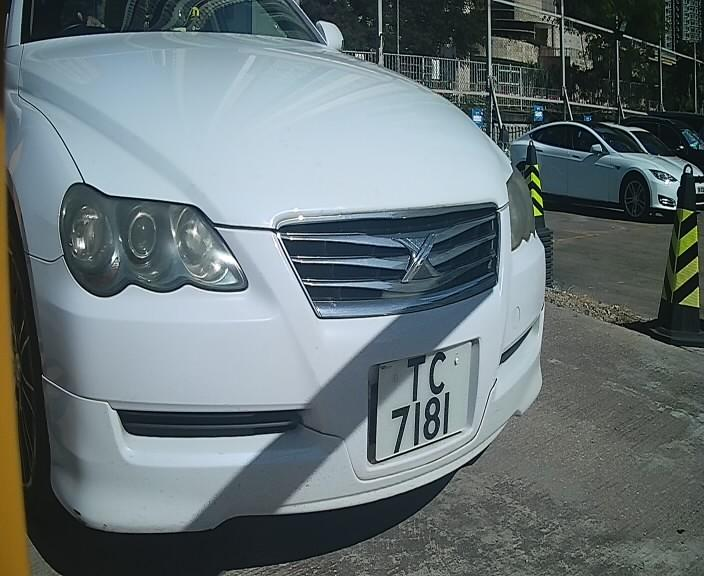Car: (1, 1, 576, 566)
License Plate: (362, 327, 485, 474)
